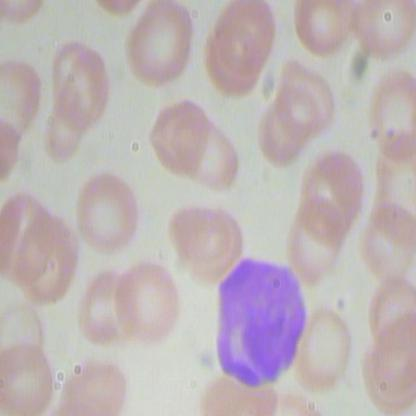RBC: (122, 1, 196, 94), (11, 212, 81, 309), (296, 150, 366, 246), (71, 170, 146, 256), (285, 195, 354, 283), (114, 257, 180, 347), (293, 303, 359, 393), (170, 112, 241, 194), (148, 94, 213, 179), (274, 55, 338, 140), (47, 39, 111, 123), (364, 62, 415, 165), (213, 1, 278, 80), (359, 202, 415, 292), (75, 268, 135, 346), (166, 202, 231, 264), (292, 1, 358, 60), (350, 1, 415, 60)
WBC: (207, 257, 309, 393)
